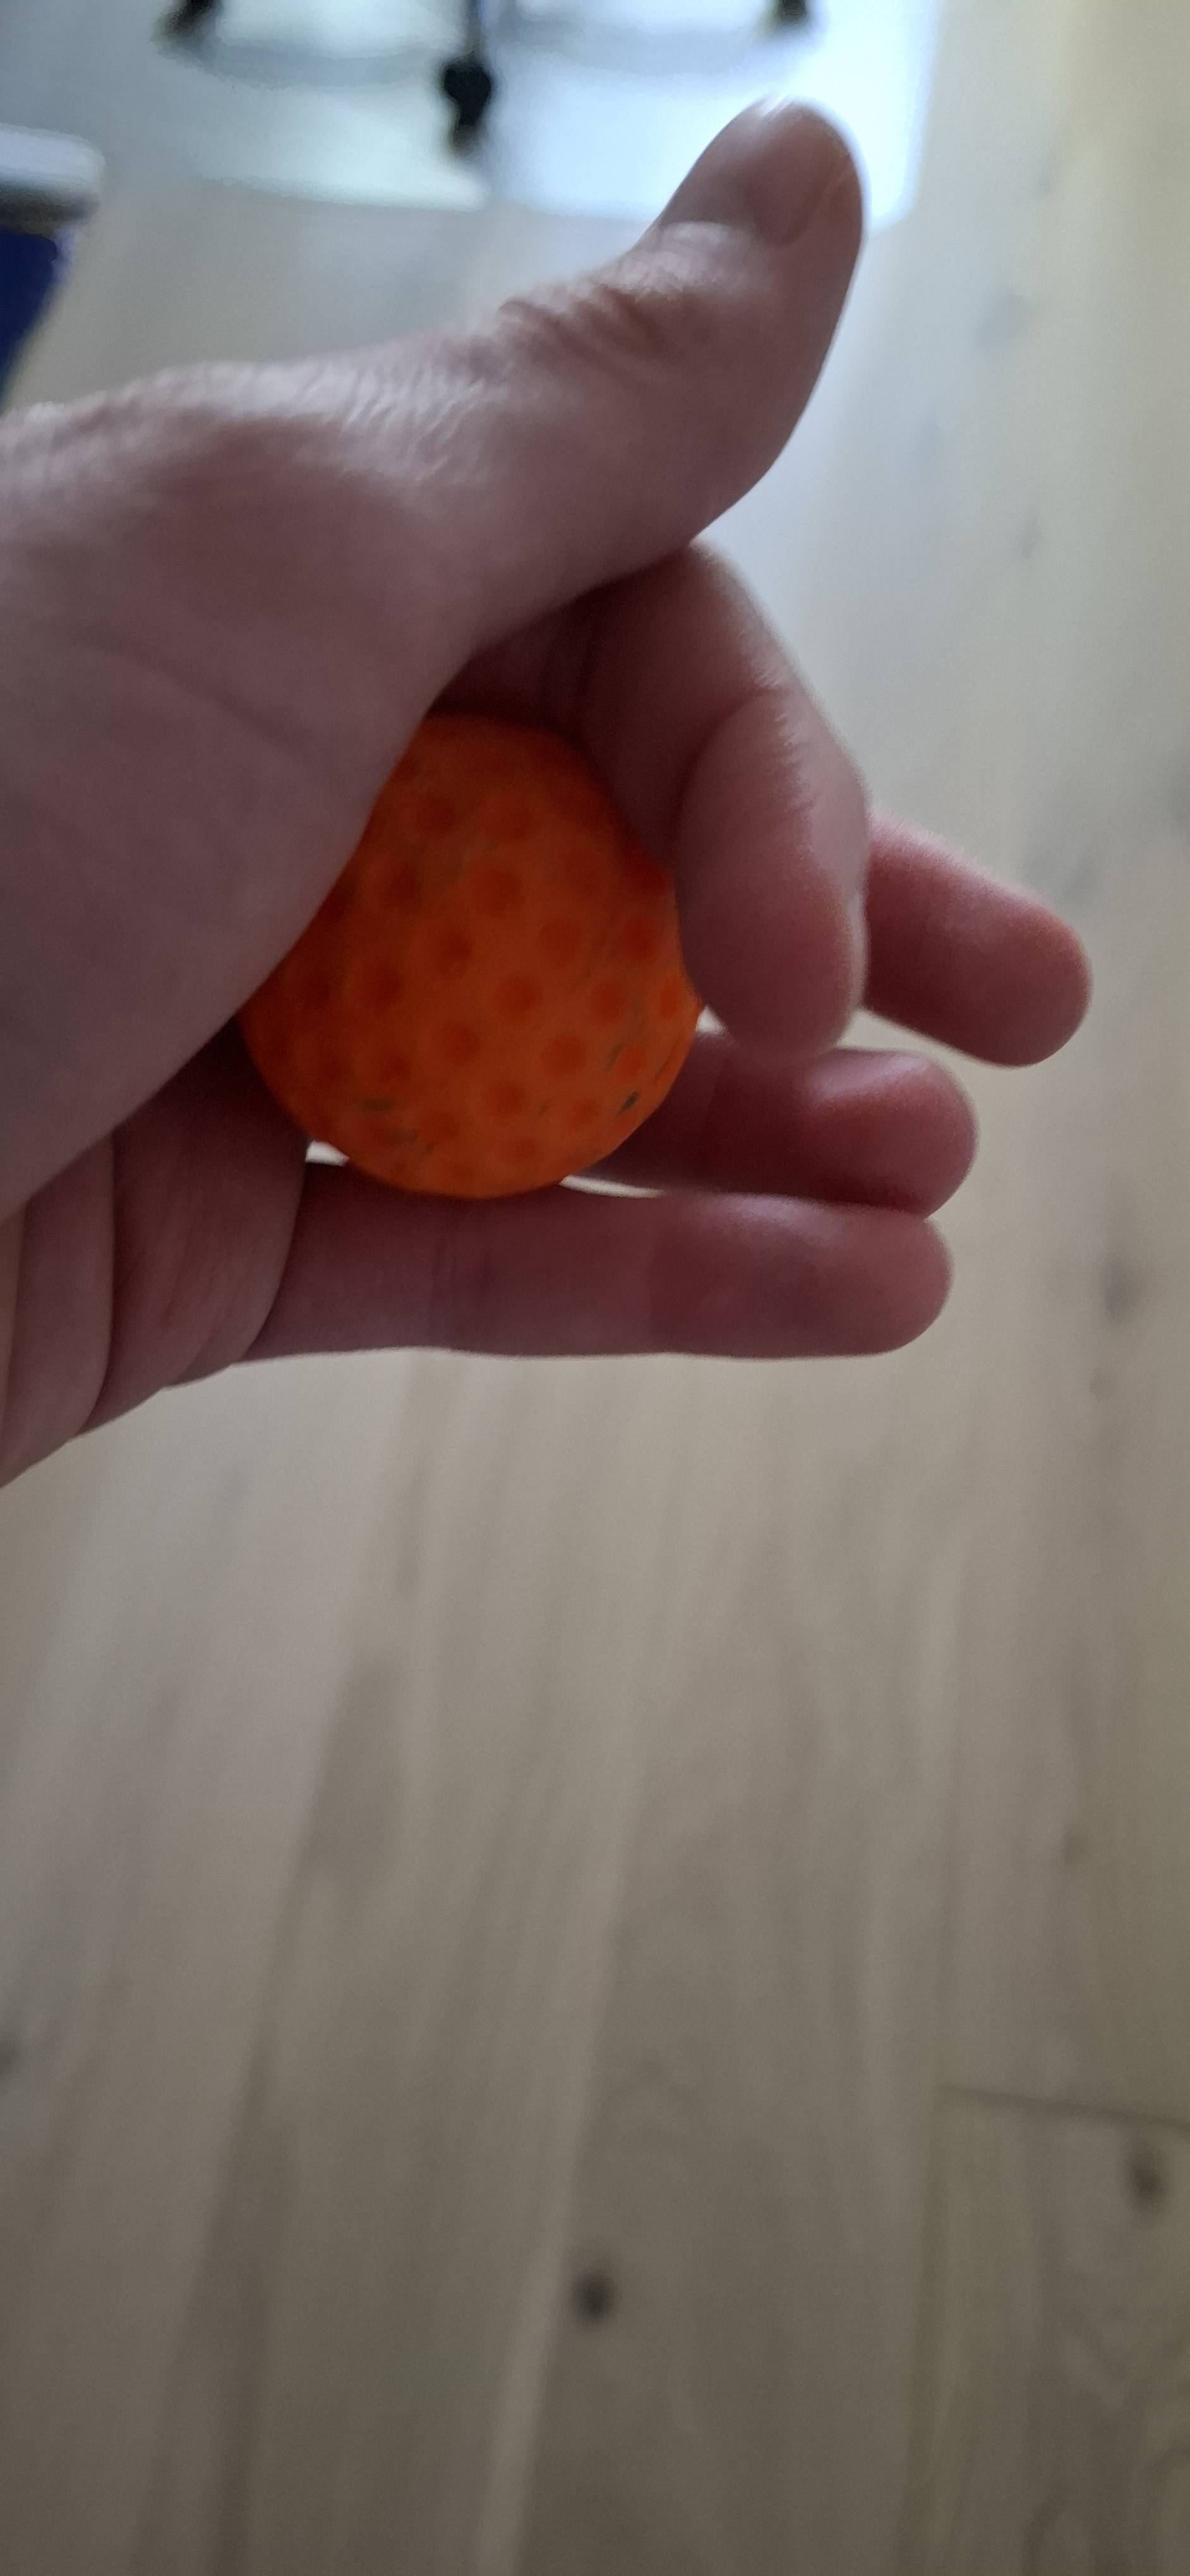ball: (327, 1060, 557, 2044)
